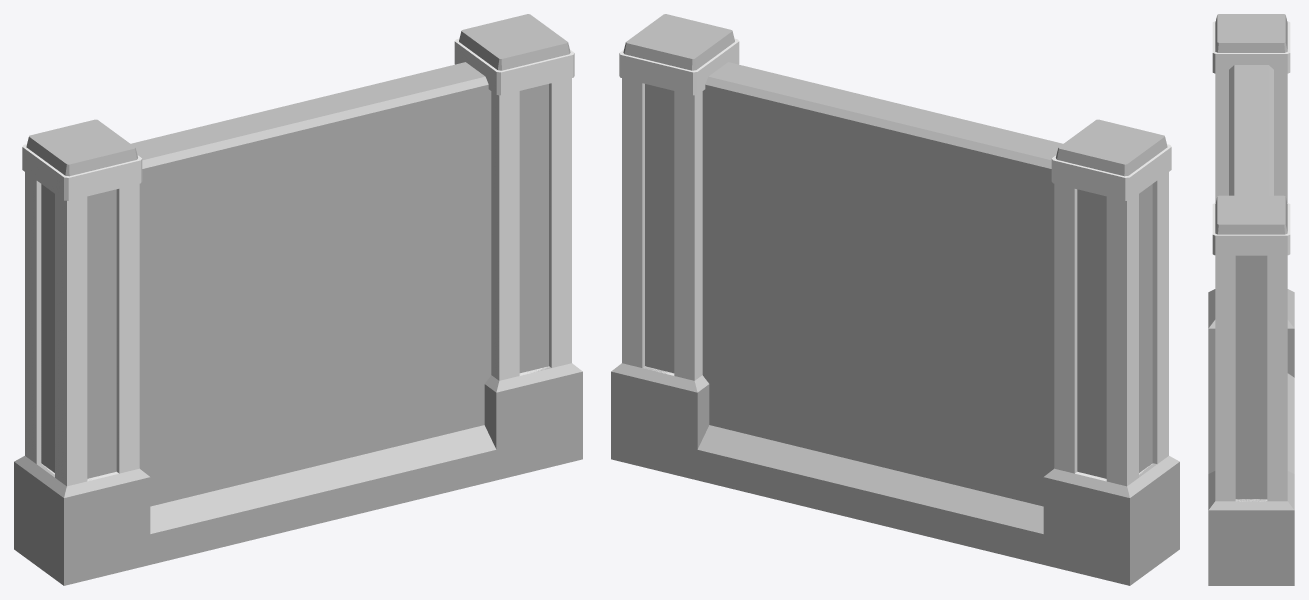
Rendered from BigWall_01.fbx.
3 renders of one model, left to right at view 1: azimuth 30°, elevation 25°; view 2: azimuth 150°, elevation 25°; view 3: azimuth 270°, elevation 25°, orthographic. The views are drawn at different scales.
Parts seen in each view (by area): view 1: BigWall_01; view 2: BigWall_01; view 3: BigWall_01.
Boxes of the visible parts, left/top/right/bottom form: BigWall_01: left=14, top=14, right=582, bottom=585; BigWall_01: left=611, top=14, right=1179, bottom=585; BigWall_01: left=1208, top=14, right=1294, bottom=585.
Bounding box in the file's own units: 366 × 280 × 61.03.
